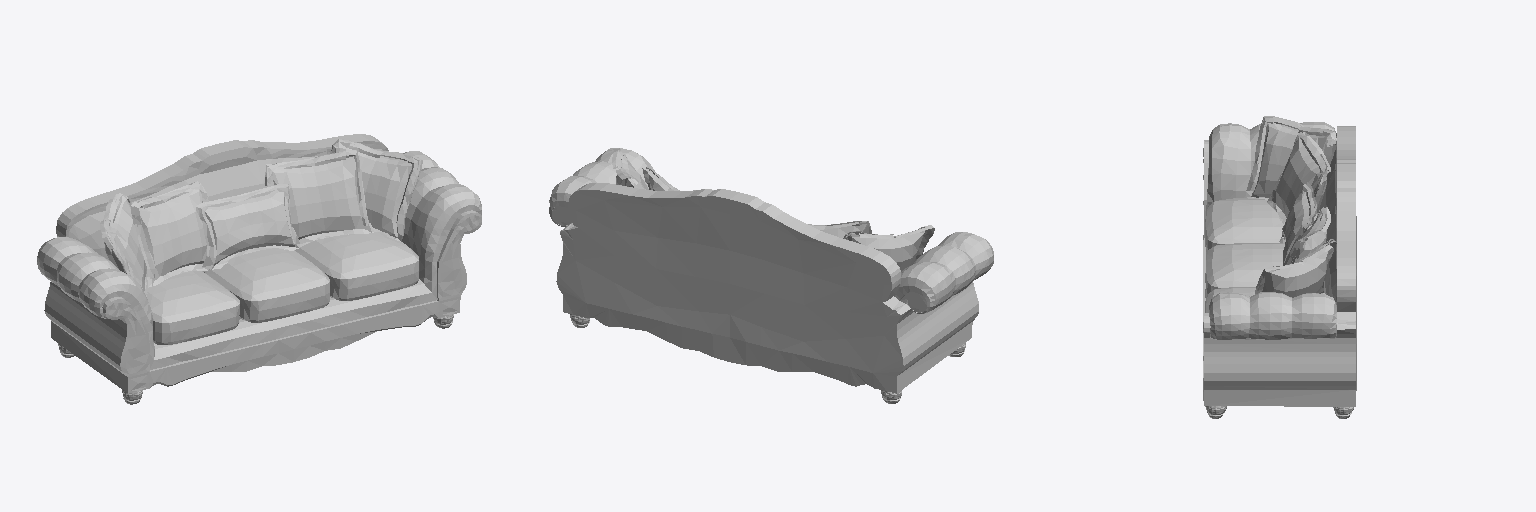
The model's file is Sofa.obj.
3 views of the same model, side by side, from view 1: azimuth 30°, elevation 25°; view 2: azimuth 150°, elevation 25°; view 3: azimuth 270°, elevation 25° (orthographic).
Visible parts, largest first — view 1: default; view 2: default; view 3: default.
Boxes of the visible parts, box(x1,y1,x2,y2) form: default: box(37, 134, 481, 404); default: box(549, 148, 993, 403); default: box(1203, 116, 1356, 418).
Size of the model in its own units: 2.73 by 1.12 by 0.925.